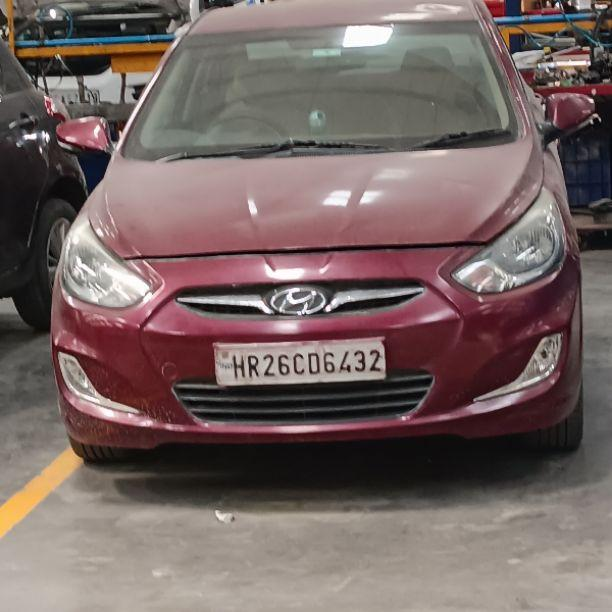license_plate: (211, 337, 387, 386)
